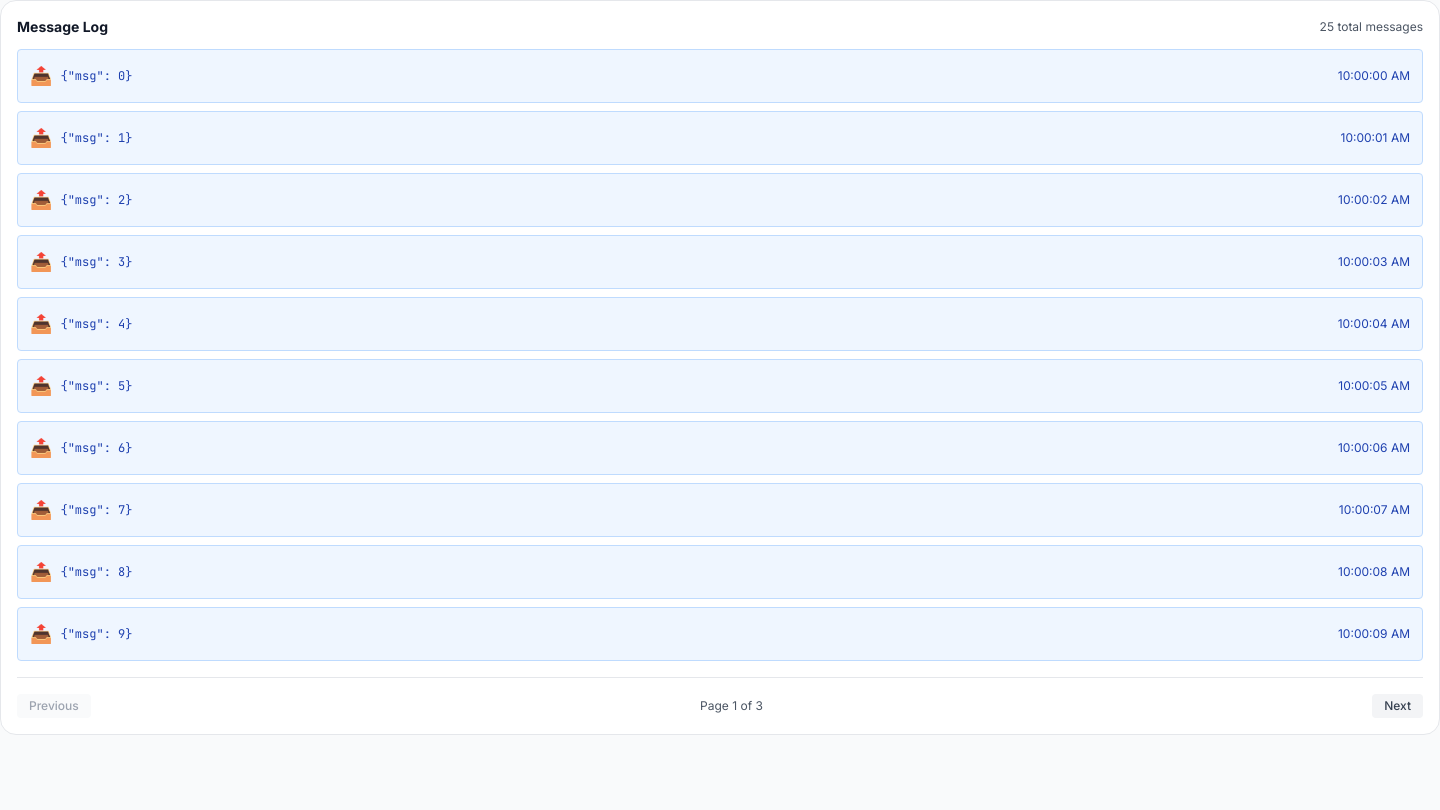
Scenario: MessageLog Component › Pagination › should navigate to next page
Expected: the text "{\"msg\": 0}" is shown, [60,68,132,84]
Expected: the text "{\"msg\": 10}" is not shown
// Click Next
Click the button "Next": (1398, 706) [1372,694,1423,718]
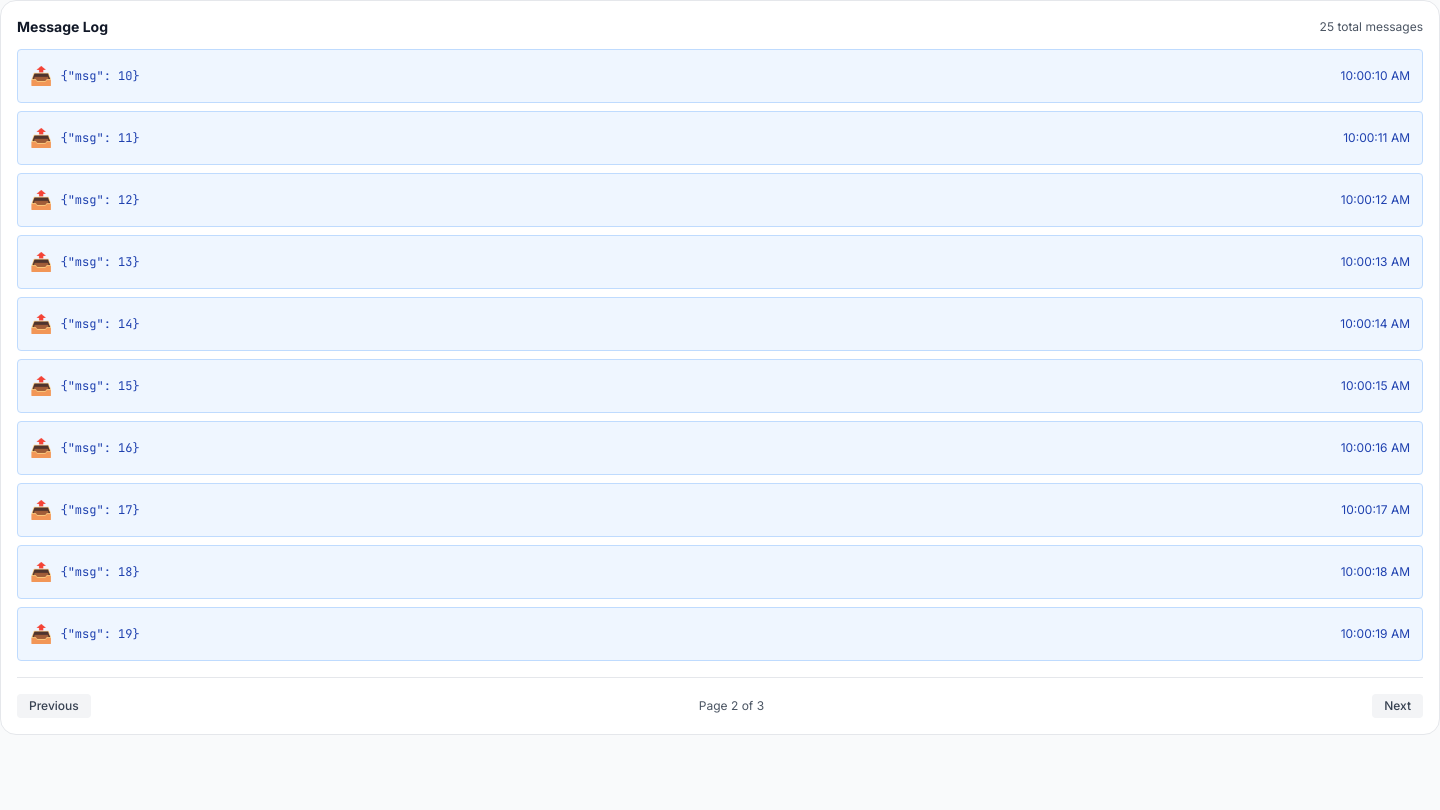
Now the text "{\"msg\": 10}" is shown, box [60,68,140,84]
Now the button "{\"msg\": 0}" is gone
